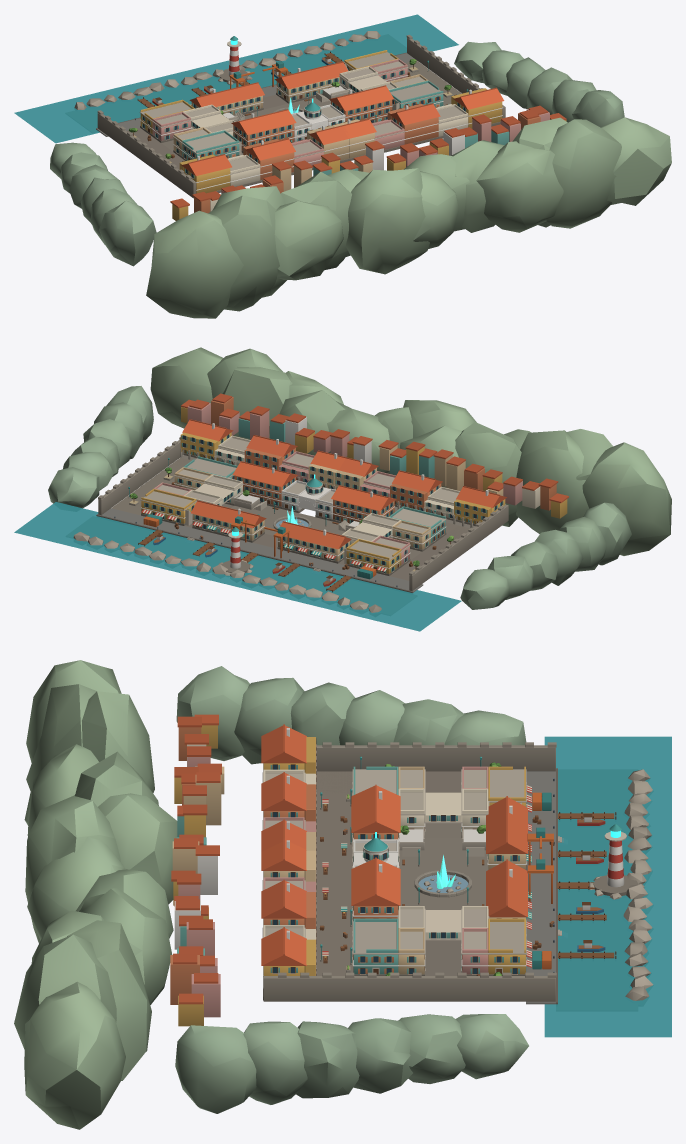
The picture shows the model from 3 angles, top to bottom: view 1: azimuth 30°, elevation 25°; view 2: azimuth 150°, elevation 25°; view 3: azimuth 270°, elevation 25°; orthographic projection. The views are drawn at different scales.
Visible parts, largest first — view 1: nc_backdrop, plaster, stone, nc_water, roof, wood, cobble, glass, metal, concrete; view 2: nc_backdrop, stone, plaster, nc_water, roof, wood, cobble, concrete, glass, metal, fabric; view 3: nc_backdrop, stone, nc_water, roof, plaster, cobble, wood, concrete, metal, glass, tiles, fabric.
Boxes of the visible parts, x1,y1,x2,y2 form: nc_backdrop: (50, 41, 671, 318); plaster: (140, 47, 502, 193); stone: (74, 31, 505, 198); nc_water: (14, 14, 458, 143); roof: (181, 61, 504, 175); wood: (133, 51, 483, 178); cobble: (126, 61, 461, 169); glass: (143, 67, 465, 177); metal: (134, 36, 468, 155); concrete: (96, 53, 416, 136); nc_backdrop: (48, 347, 671, 609); stone: (73, 437, 508, 612); plaster: (141, 423, 505, 581); nc_water: (14, 502, 461, 631); roof: (182, 419, 506, 549); wood: (133, 434, 503, 592); cobble: (111, 457, 469, 580); concrete: (97, 508, 423, 592); glass: (145, 435, 502, 572); metal: (114, 458, 435, 586); fabric: (141, 509, 386, 571); nc_backdrop: (14, 660, 528, 1129); stone: (262, 742, 653, 1004); nc_water: (544, 736, 671, 1037); roof: (261, 724, 527, 965); plaster: (263, 728, 624, 988); cobble: (316, 771, 487, 975); wood: (270, 738, 616, 975); concrete: (526, 771, 555, 1004); metal: (320, 756, 621, 972); glass: (273, 765, 516, 973); tiles: (399, 829, 485, 892); fabric: (322, 785, 531, 967).
Size of the model in its own units: 245 by 52.87 by 176.
